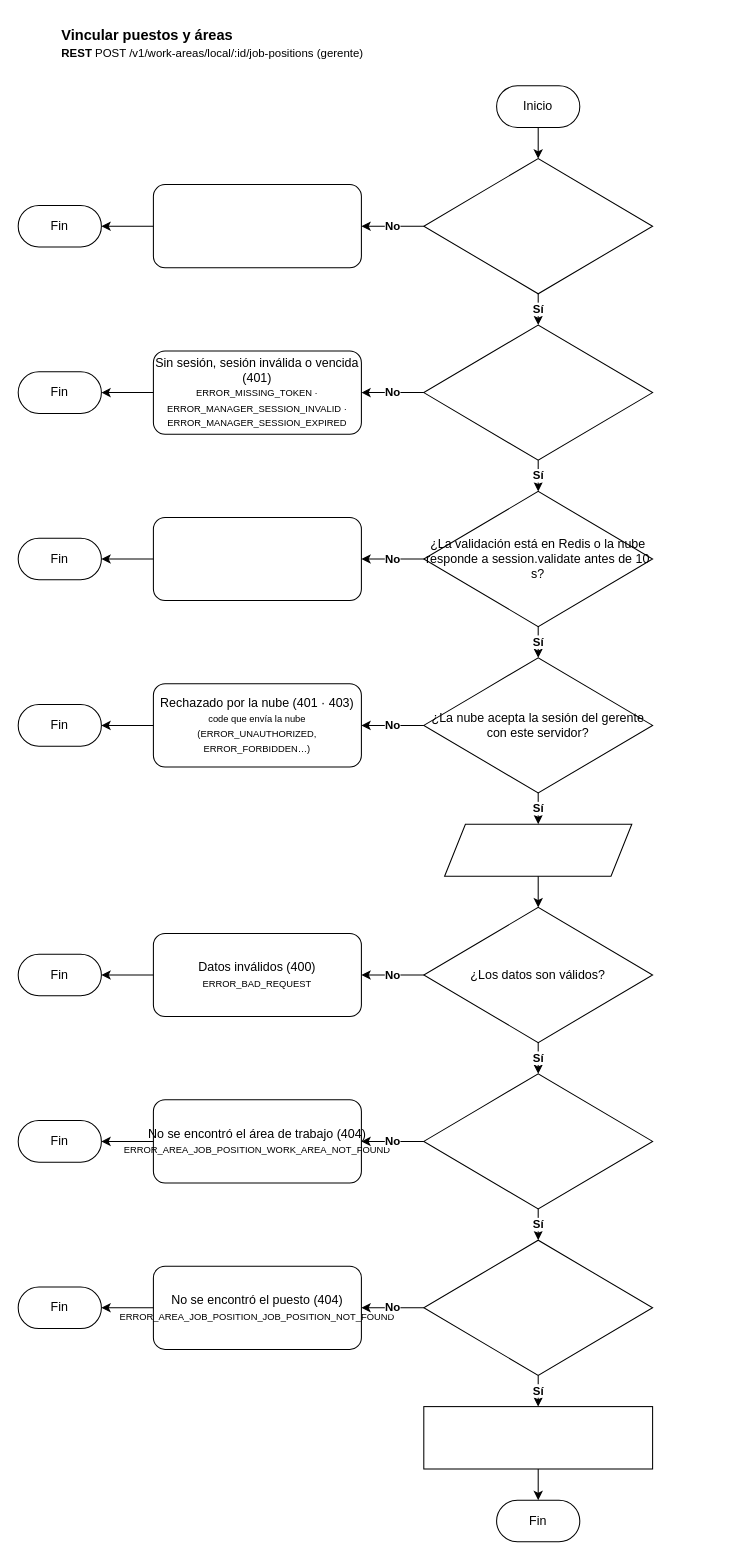
Some shapes in this 744 by 1560 pixel diagram are drawn without their labels. The shapes that lost their labels are listed below. From the top down, each one's centre as x and y in pixels, then its label:
the point at 256,226: Servidor sin emparejar (409) ERROR_SERVER_NOT_PAIRED
the point at 538,226: ¿El servidor ya se emparejó alguna vez (pairing_status distinto de unpaired)?
the point at 538,392: ¿Trae una sesión de gerente válida (Bearer mss_..., sin 30 min de inactividad)?
the point at 256,558: La nube no responde (503) ERROR_CLOUD_UNAVAILABLE · ERROR_SERVER_UNLINKED
the point at 538,849: Recibir datos
the point at 538,1141: ¿Existe el área de trabajo?
the point at 538,1307: ¿Existe el puesto?
the point at 538,1437: Responder 200 con el mensaje LINKED
